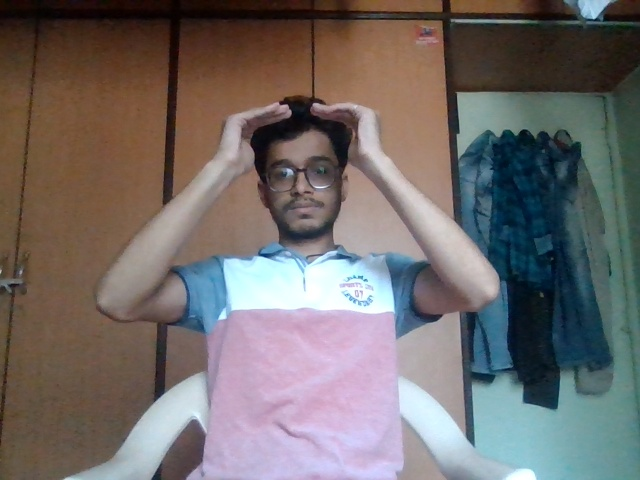afternoon: (176, 90, 435, 216)
